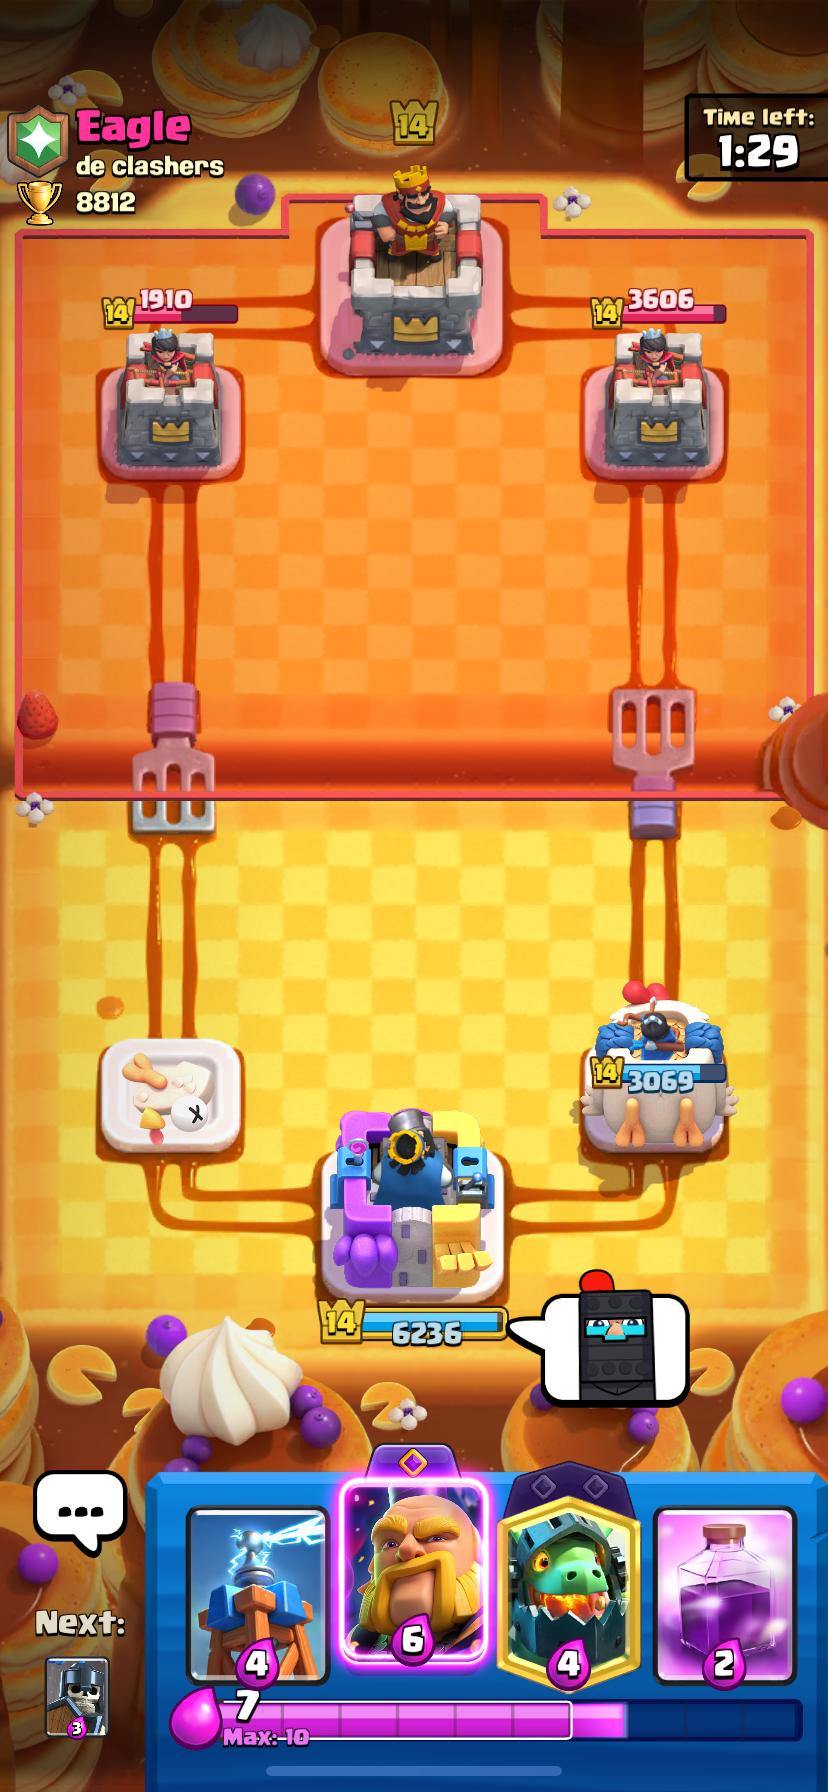EKingTower: (349, 165, 481, 359)
EnemyPrincessTower: (101, 327, 240, 480), (586, 329, 723, 480)
OwnKingTower: (331, 1109, 493, 1298)
OwnPrincessTower: (580, 982, 735, 1151)
TowerDown: (99, 1037, 242, 1155)
